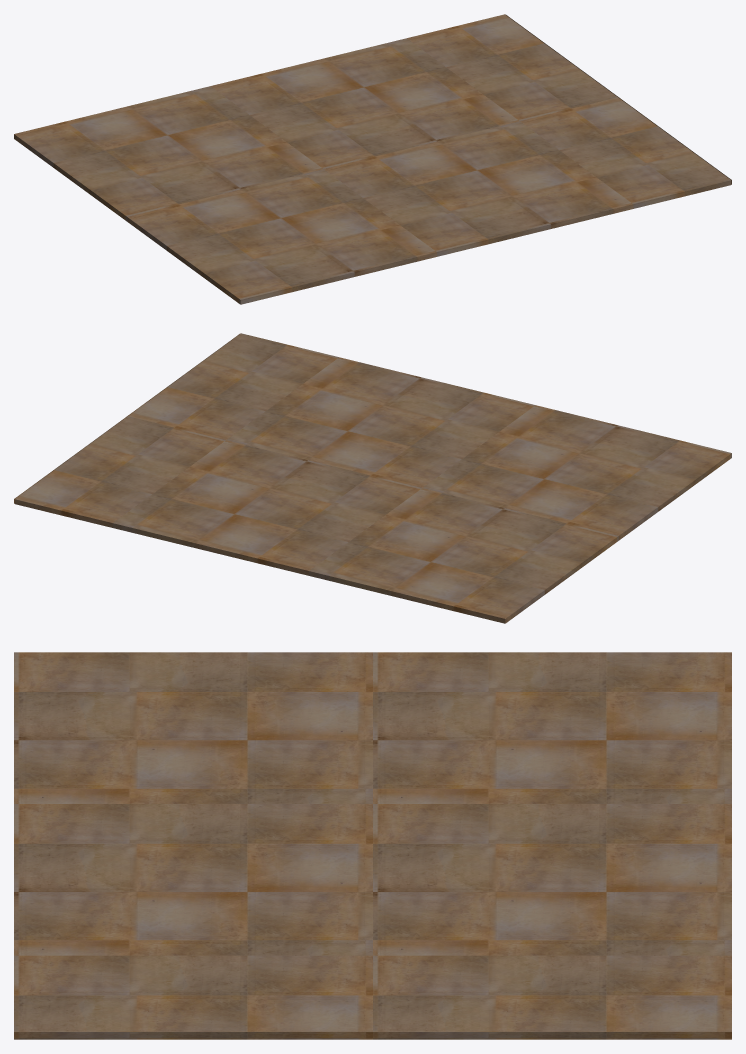
The model's file is SM_Unhyun_Norak_Floor_C001.fbx.
3 views of the same model, one above another, from view 1: azimuth 30°, elevation 25°; view 2: azimuth 150°, elevation 25°; view 3: azimuth 270°, elevation 25° (orthographic). The views are drawn at different scales.
Visible parts, largest first — view 1: SM_Unhyun_Norak_Floor_C001; view 2: SM_Unhyun_Norak_Floor_C001; view 3: SM_Unhyun_Norak_Floor_C001.
Boxes of the visible parts, x1,y1,x2,y2 form: SM_Unhyun_Norak_Floor_C001: (14,14,731,304); SM_Unhyun_Norak_Floor_C001: (14,333,731,623); SM_Unhyun_Norak_Floor_C001: (14,652,731,1039).
Bounding box in the file's own units: 653 × 6.2 × 522.
